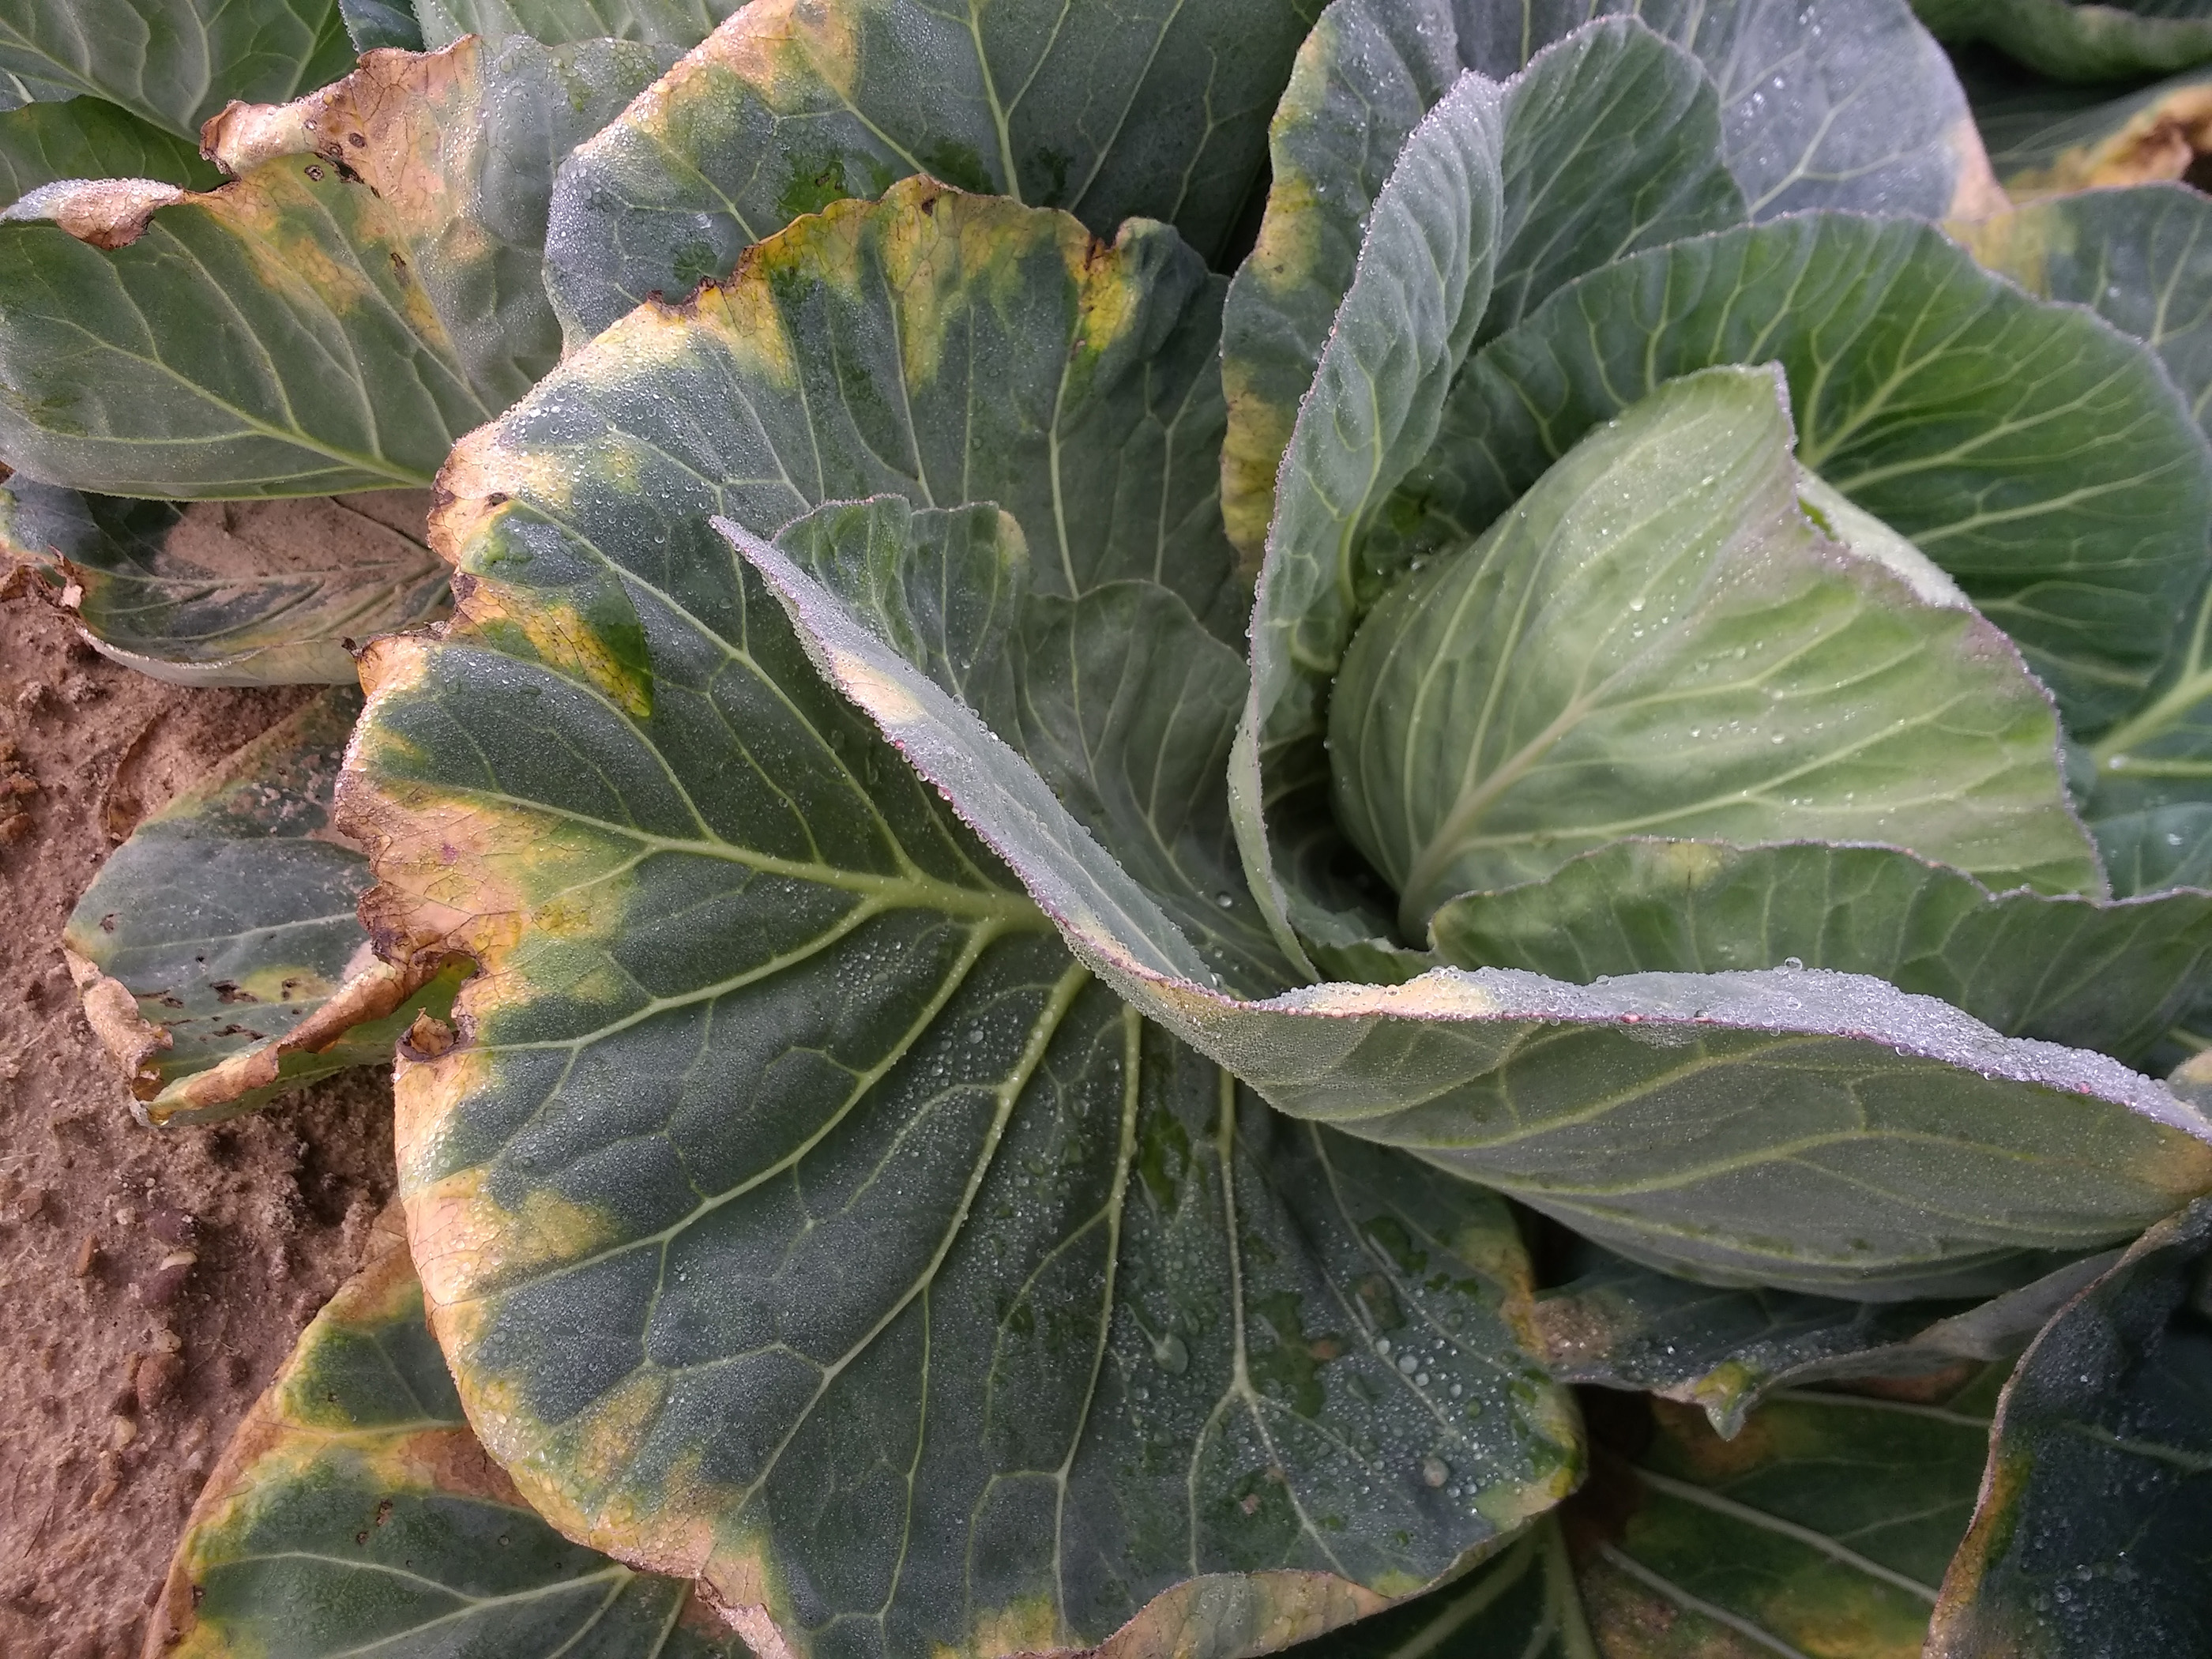Cabbage_Blight: (245, 120, 1597, 1284)
